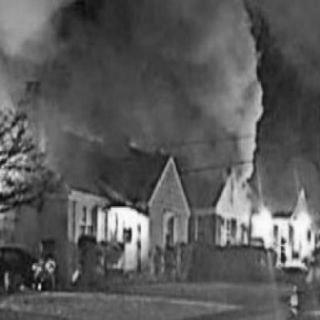Smoke: (46, 8, 316, 164)
